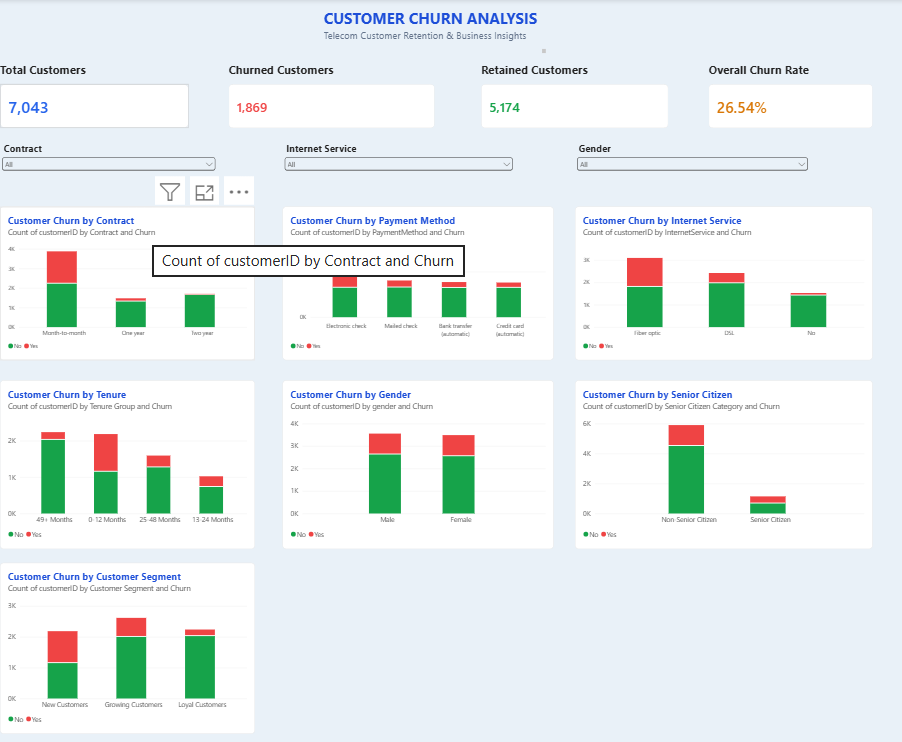

The dashboard page shown, as its layout file describes it:
{"tool":"powerbi","page":{"name":"Customer Churn Overview","canvas":[1920,1580],"ordinal":0},"visuals":[{"type":"textbox","title":"CUSTOMER CHURN ANALYSIS","box":[685.7,18.5,470,95.7],"z":0},{"type":"cardVisual","title":"Total Customers","fields":{"Data":["TelcoCustomerChurn.Total Customers"]},"box":[0,132.4,400,141.5],"z":1000},{"type":"cardVisual","title":"Churned Customers","fields":{"Data":["TelcoCustomerChurn.Churned Customers"]},"box":[484.5,132.4,436.9,141.5],"z":2000},{"type":"cardVisual","title":"Retained Customers","fields":{"Data":["TelcoCustomerChurn.Retained Customers"]},"box":[1019.3,132.4,396.9,141.5],"z":3000},{"type":"cardVisual","title":"Overall Churn Rate","fields":{"Data":["TelcoCustomerChurn.Overall Churn Rate"]},"box":[1501.1,132.4,347.7,141.5],"z":4000},{"type":"columnChart","title":"Customer Churn by Contract","fields":{"Category":["TelcoCustomerChurn.Contract"],"Series":["TelcoCustomerChurn.Churn"],"Y":["CountNonNull(TelcoCustomerChurn.customerID)"]},"box":[0,439.5,540.1,325.6],"z":5000},{"type":"columnChart","title":"Customer Churn by Payment Method","fields":{"Category":["TelcoCustomerChurn.PaymentMethod"],"Series":["TelcoCustomerChurn.Churn"],"Y":["CountNonNull(TelcoCustomerChurn.customerID)"]},"box":[598.3,439.5,574.5,325.6],"z":6000},{"type":"columnChart","title":"Customer Churn by Internet Service","fields":{"Category":["TelcoCustomerChurn.InternetService"],"Series":["TelcoCustomerChurn.Churn"],"Y":["CountNonNull(TelcoCustomerChurn.customerID)"]},"box":[1217.8,439.5,630.1,325.6],"z":7000},{"type":"columnChart","title":"Customer Churn by Tenure","fields":{"Category":["TelcoCustomerChurn.Tenure Group"],"Series":["TelcoCustomerChurn.Churn"],"Y":["CountNonNull(TelcoCustomerChurn.customerID)"]},"box":[0,807.5,540.1,357.4],"z":8000},{"type":"columnChart","title":"Customer Churn by Gender","fields":{"Category":["TelcoCustomerChurn.gender"],"Series":["TelcoCustomerChurn.Churn"],"Y":["CountNonNull(TelcoCustomerChurn.customerID)"]},"box":[598.3,807.5,574.5,357.4],"z":9000},{"type":"columnChart","title":"Customer Churn by Senior Citizen","fields":{"Category":["TelcoCustomerChurn.Senior Citizen Category"],"Series":["TelcoCustomerChurn.Churn"],"Y":["CountNonNull(TelcoCustomerChurn.customerID)"]},"box":[1217.8,807.5,630.1,357.4],"z":10000},{"type":"columnChart","title":"Customer Churn by Customer Segment","fields":{"Category":["TelcoCustomerChurn.Customer Segment"],"Series":["TelcoCustomerChurn.Churn"],"Y":["CountNonNull(TelcoCustomerChurn.customerID)"]},"box":[0,1194,540.1,362.7],"z":11000},{"type":"slicer","fields":{"Values":["TelcoCustomerChurn.Contract"]},"box":[0,301.8,460.7,90],"z":12000},{"type":"slicer","fields":{"Values":["TelcoCustomerChurn.InternetService"]},"box":[598.3,301.8,492.4,76.8],"z":13000},{"type":"slicer","fields":{"Values":["TelcoCustomerChurn.gender"]},"box":[1217.8,301.8,497.7,95.3],"z":14000}]}

Visuals, with their boxes in screenshot pixels (x1, y1, x2, y2), scaled from the page's 1920x1580 canvas onto the 902x742 screenshot:
"CUSTOMER CHURN ANALYSIS" textbox: 322,9,543,54
"Total Customers" cardVisual: 0,62,188,129
"Churned Customers" cardVisual: 228,62,433,129
"Retained Customers" cardVisual: 479,62,665,129
"Overall Churn Rate" cardVisual: 705,62,869,129
"Customer Churn by Contract" columnChart: 0,206,254,359
"Customer Churn by Payment Method" columnChart: 281,206,551,359
"Customer Churn by Internet Service" columnChart: 572,206,868,359
"Customer Churn by Tenure" columnChart: 0,379,254,547
"Customer Churn by Gender" columnChart: 281,379,551,547
"Customer Churn by Senior Citizen" columnChart: 572,379,868,547
"Customer Churn by Customer Segment" columnChart: 0,561,254,731
slicer - TelcoCustomerChurn.Contract: 0,142,216,184
slicer - TelcoCustomerChurn.InternetService: 281,142,512,178
slicer - TelcoCustomerChurn.gender: 572,142,806,186
